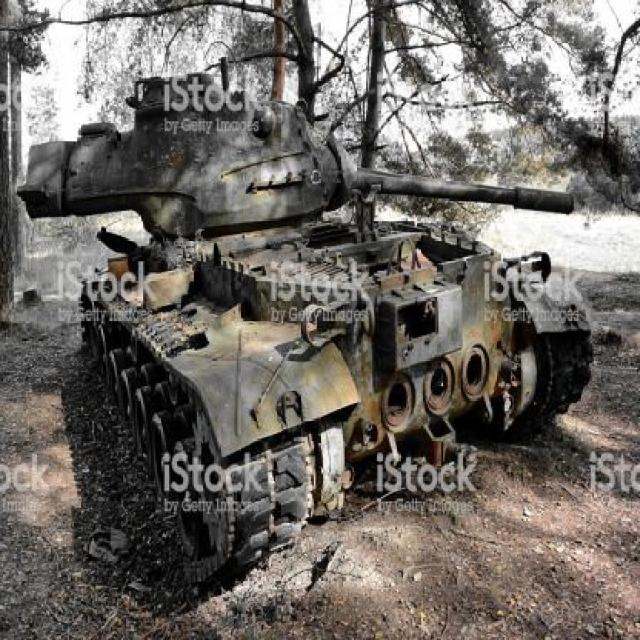corrosion: (21, 69, 597, 574)
